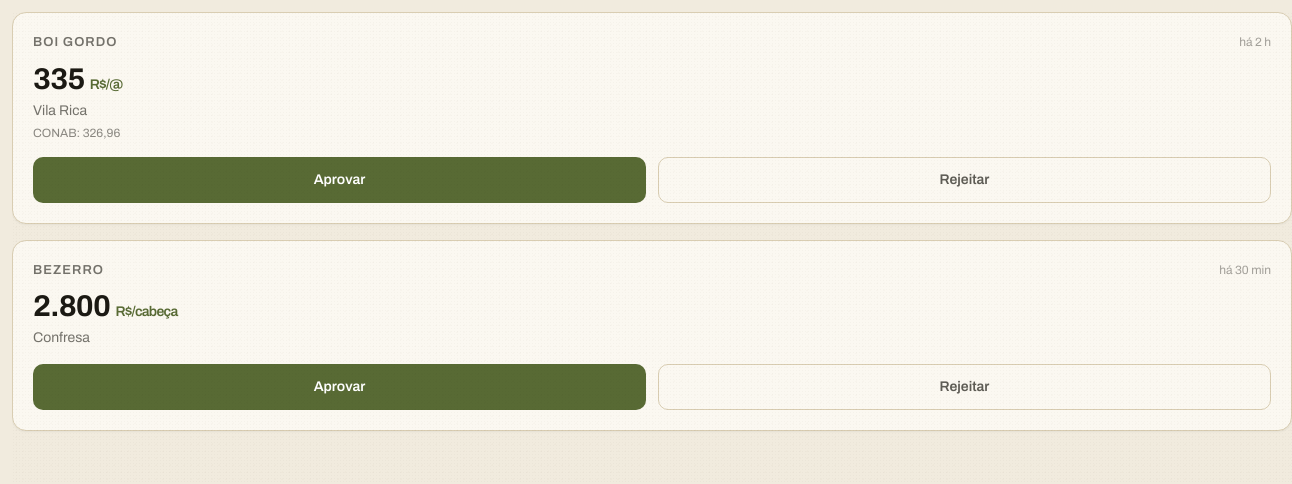
Scenario: FilaModeracao › falha do servidor devolve o card e mostra o erro
Click the button "Aprovar" below "CONAB:" at x=340, y=180, box [33, 156, 646, 202]
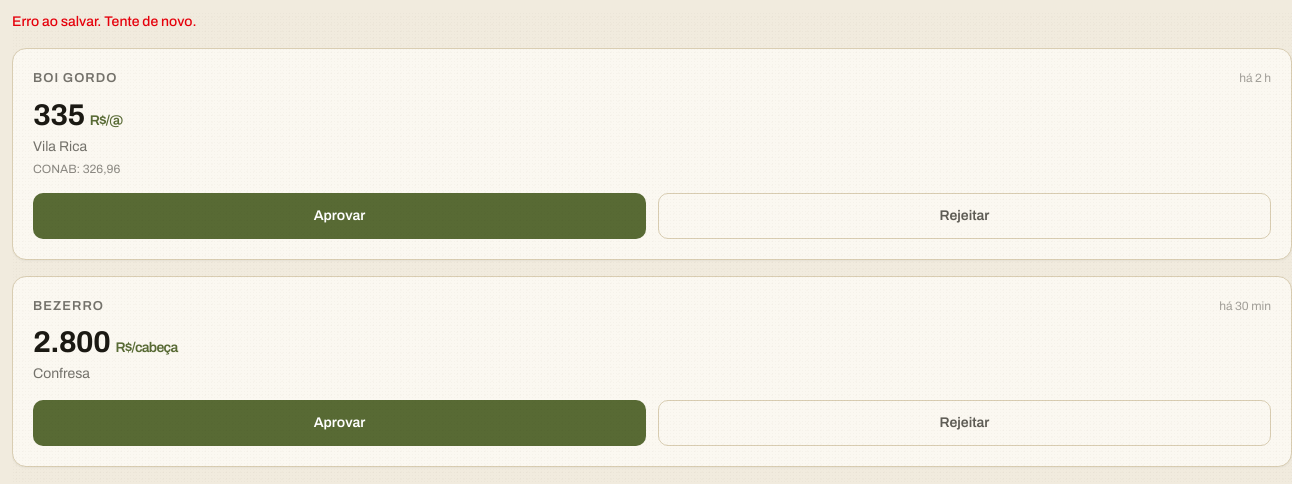
Expected: the heading "Boi gordo" is shown, [33, 69, 117, 88]
Now the text "Erro ao salvar. Tente de novo." is shown, box [12, 14, 197, 29]
